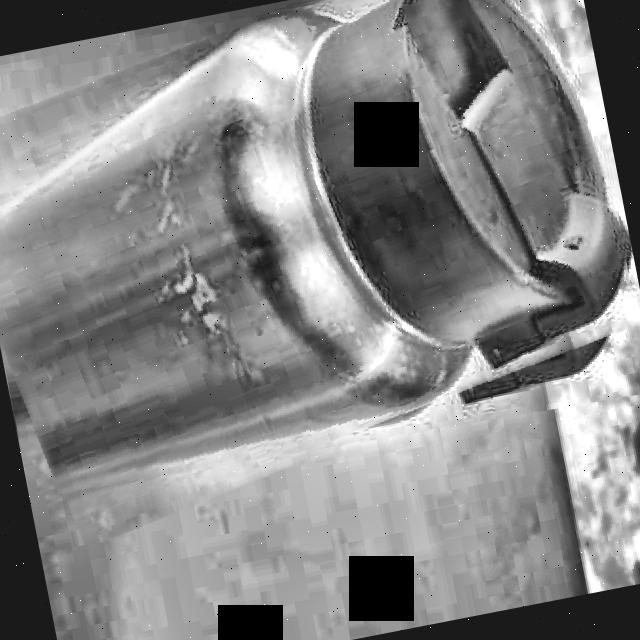bottle: (0, 0, 624, 496)
